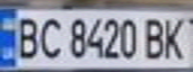0: (118, 15, 142, 60)
2: (103, 15, 124, 60)
4: (84, 15, 106, 60)
8: (63, 15, 87, 60)
B: (9, 14, 42, 61), (139, 15, 169, 61)
C: (36, 14, 66, 61)
K: (160, 14, 193, 61)
